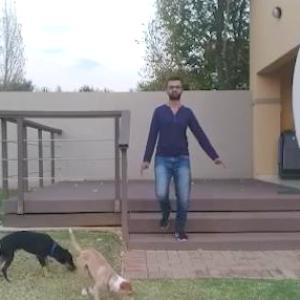land: (135, 83, 217, 236)
